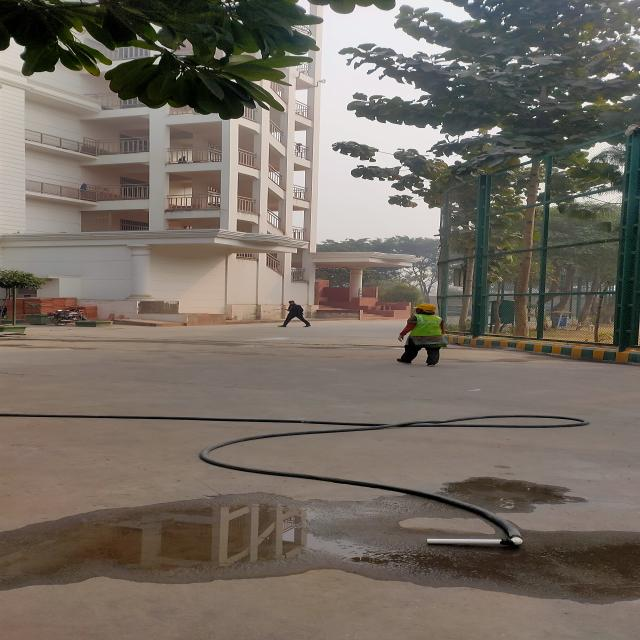safe: (396, 297, 454, 373)
unsafe: (281, 299, 314, 328)
